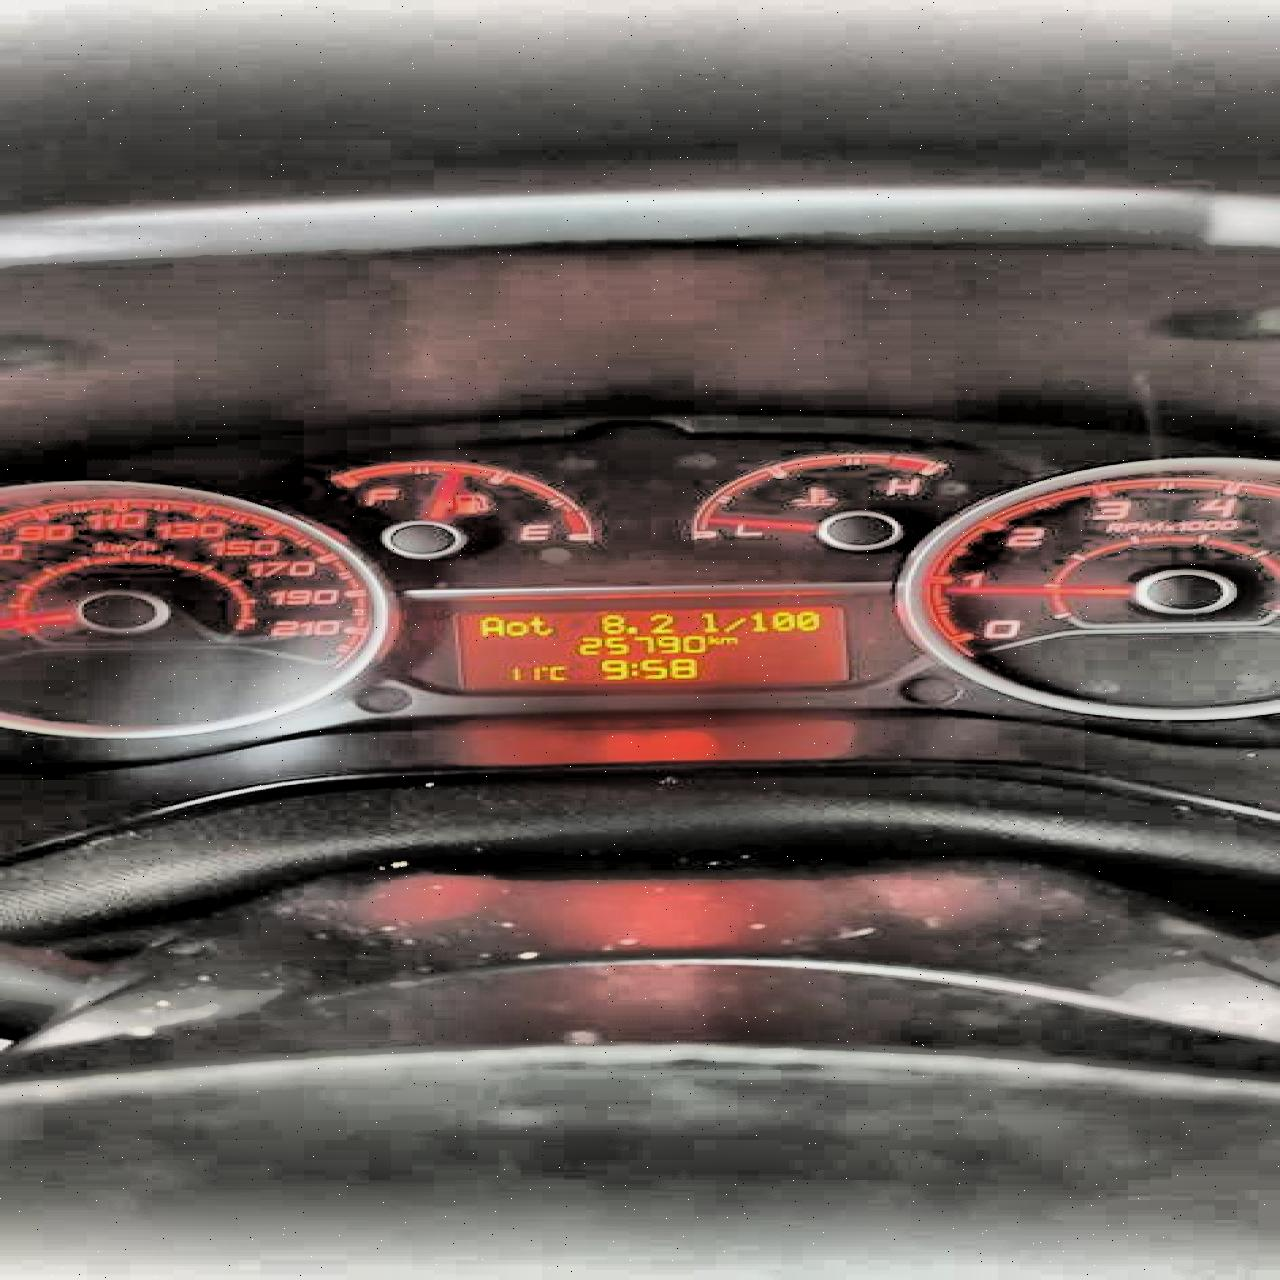-: (624, 626, 638, 634)
0: (795, 610, 819, 629), (768, 611, 791, 631), (681, 635, 702, 653)
1: (745, 611, 765, 631), (529, 665, 539, 680), (510, 665, 518, 680)
2: (646, 613, 673, 633), (576, 636, 602, 655)
5: (638, 659, 665, 679), (601, 636, 626, 654)
7: (632, 636, 653, 654)
8: (597, 614, 624, 634), (667, 658, 694, 678)
9: (599, 658, 626, 679), (654, 635, 679, 653)
X: (529, 614, 553, 635), (477, 617, 502, 636), (502, 620, 529, 636), (721, 617, 743, 632), (696, 611, 713, 631), (545, 665, 564, 680), (626, 661, 638, 675), (716, 636, 735, 644), (704, 635, 716, 644)
odometer: (450, 604, 849, 690)
